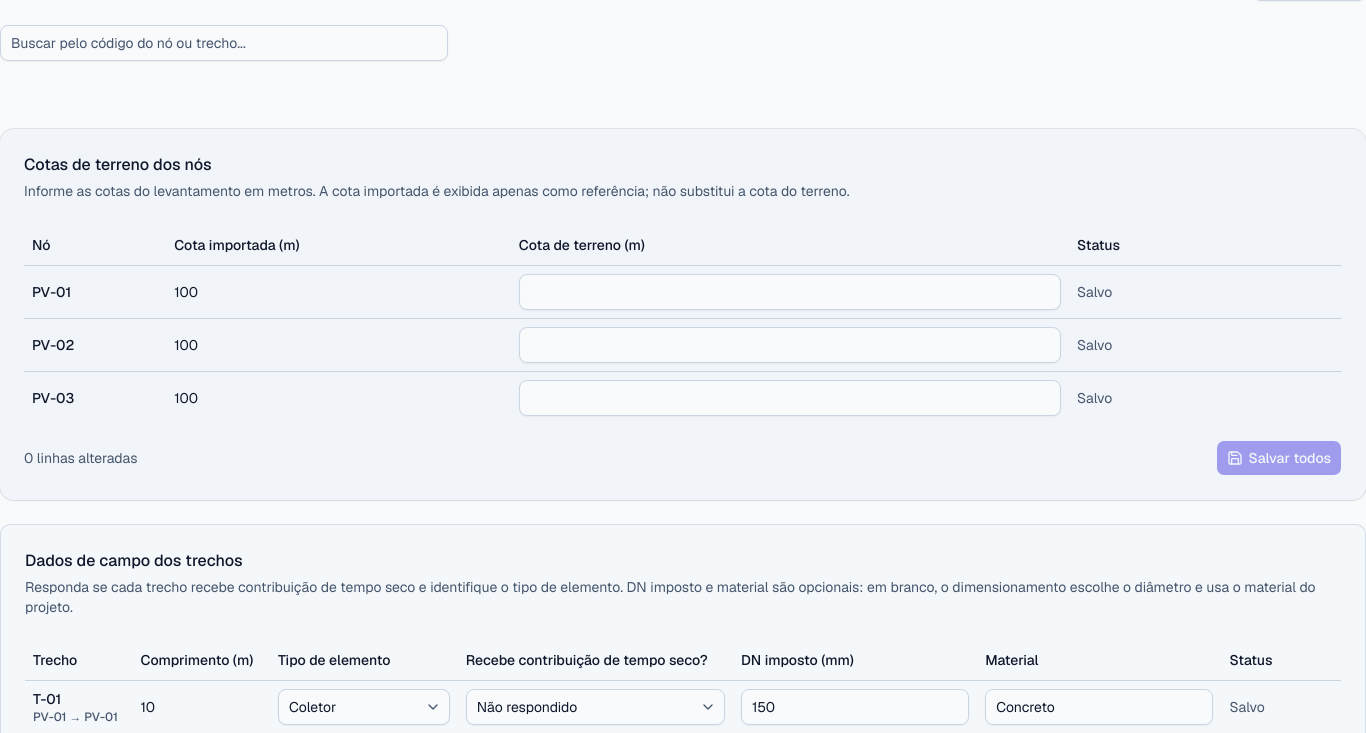
Test case: network field data › saves only changed node elevations and leaves the segment draft untouched
Type "101.5" into the number field named "Cota de terreno PV-01" at (790,292), box [519,274,1061,310]
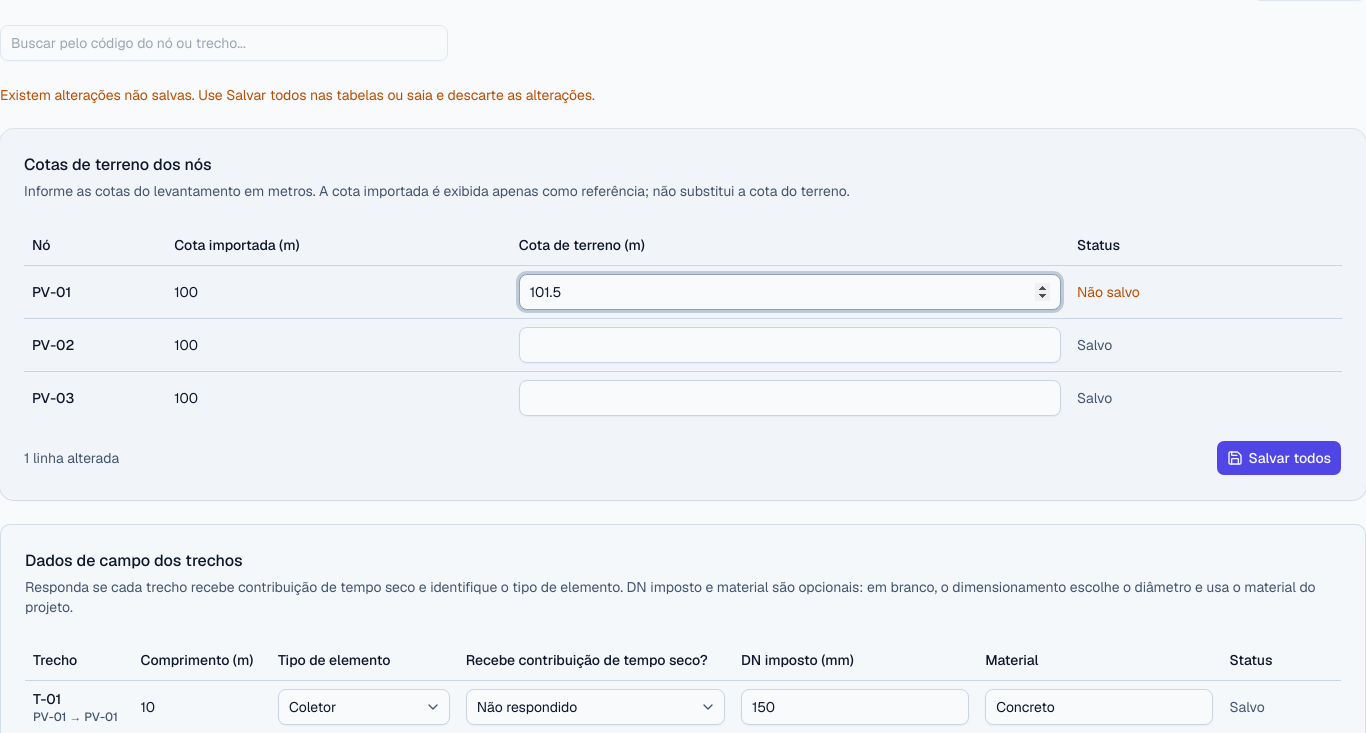
Type "102" into the number field named "Cota de terreno PV-02" at (790,344), box [519,326,1061,362]
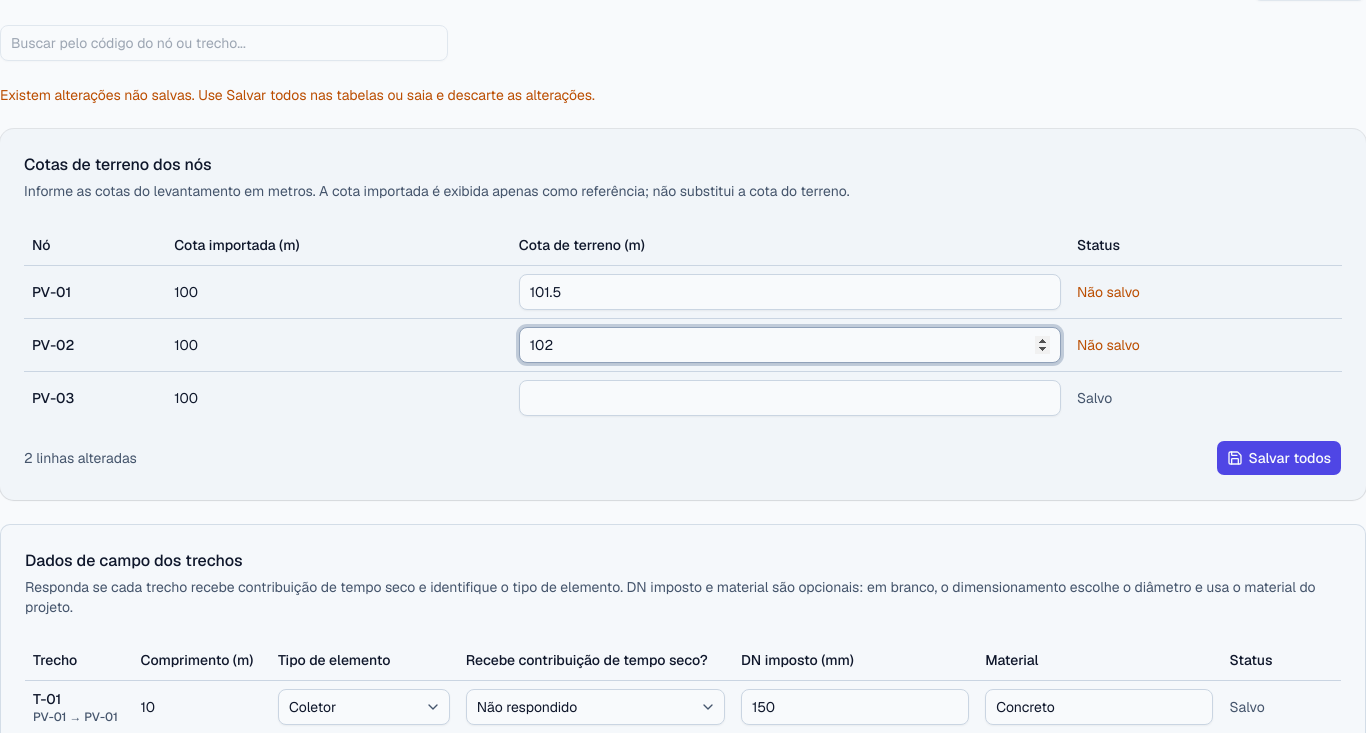
Replace the text in the field named "Material T-01" with "PVC" at (1099,707), box [985,689,1214,725]
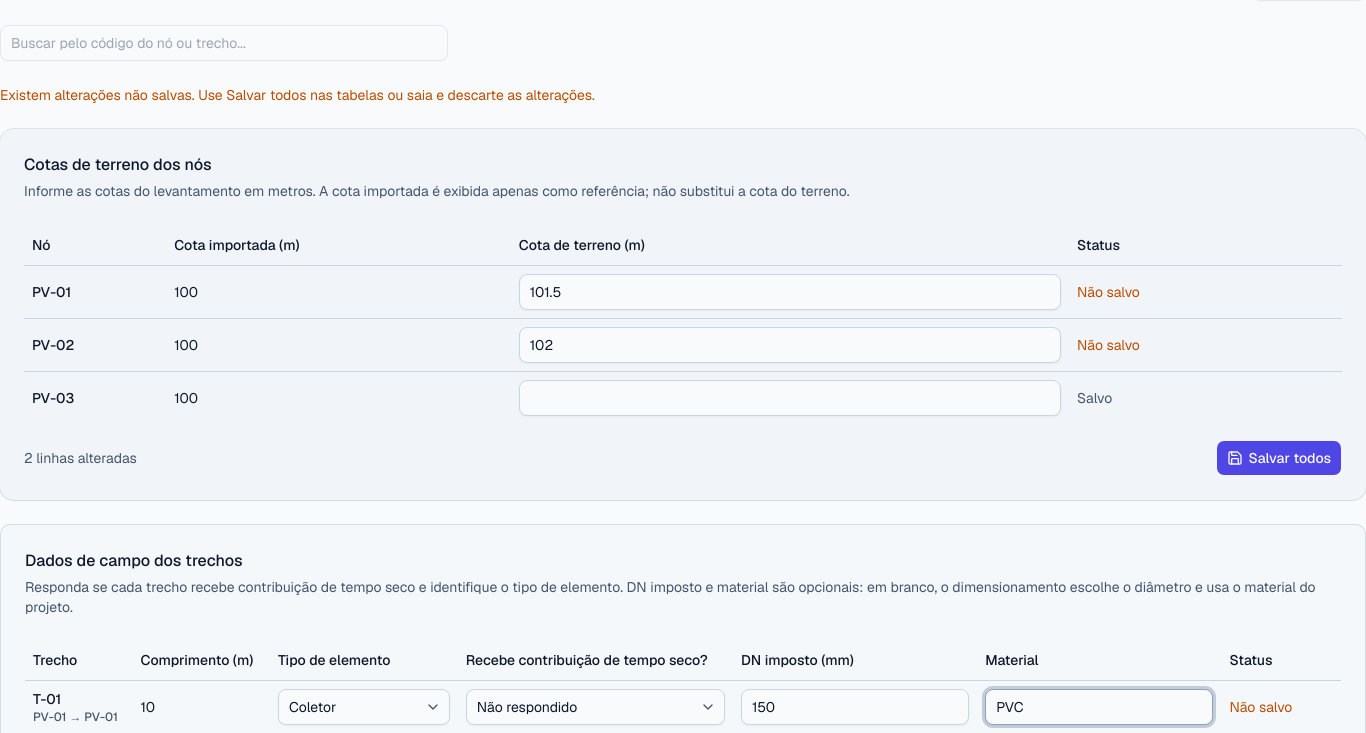
Click the button with aria-label "Salvar todos os nós" at (1279,458), box [1216,440,1342,476]
(page scrolled)
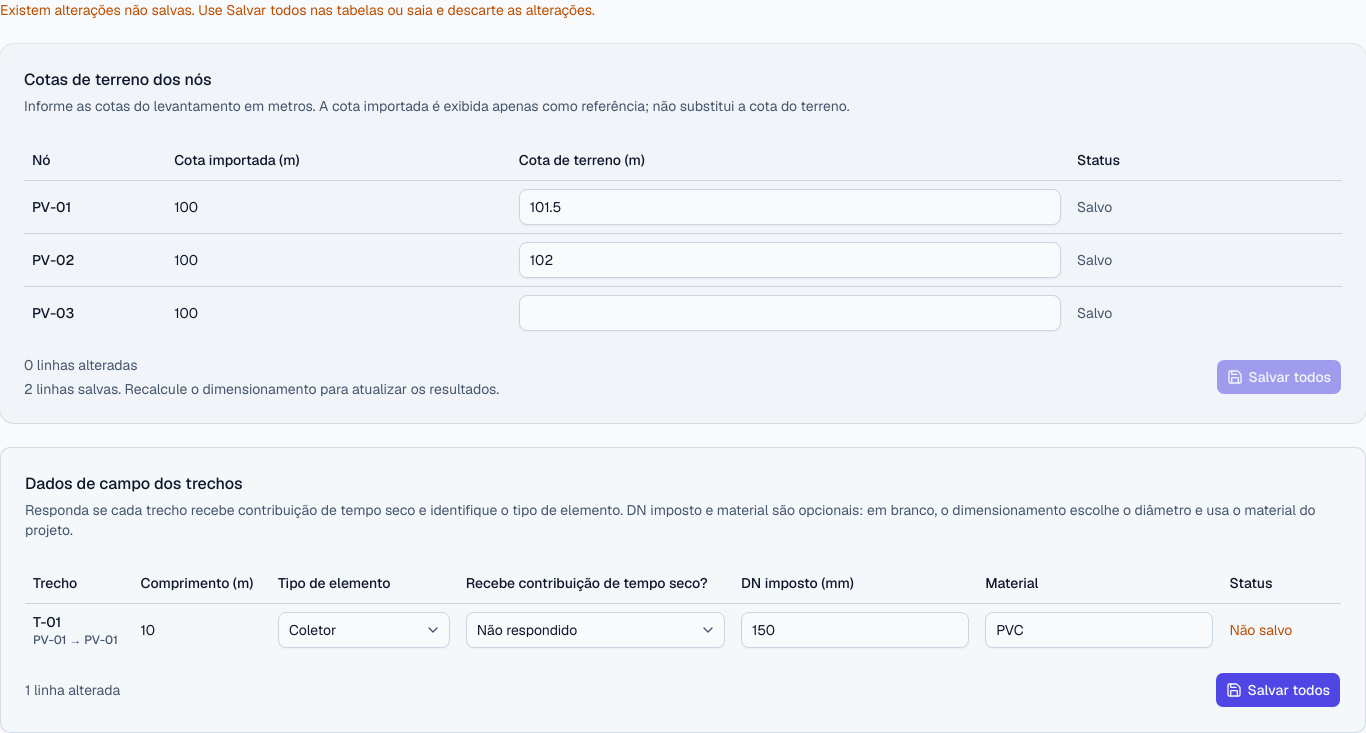
Expected: the button with aria-label "Salvar todos os trechos" is enabled, [1214,672,1341,708]
Expected: the button with aria-label "Salvar todos os nós" is disabled, [1216,358,1342,394]
Expected: the text "2 linhas salvas. Recalcule o dimensionamento para atualizar os resultados." is shown, [24,378,499,398]
